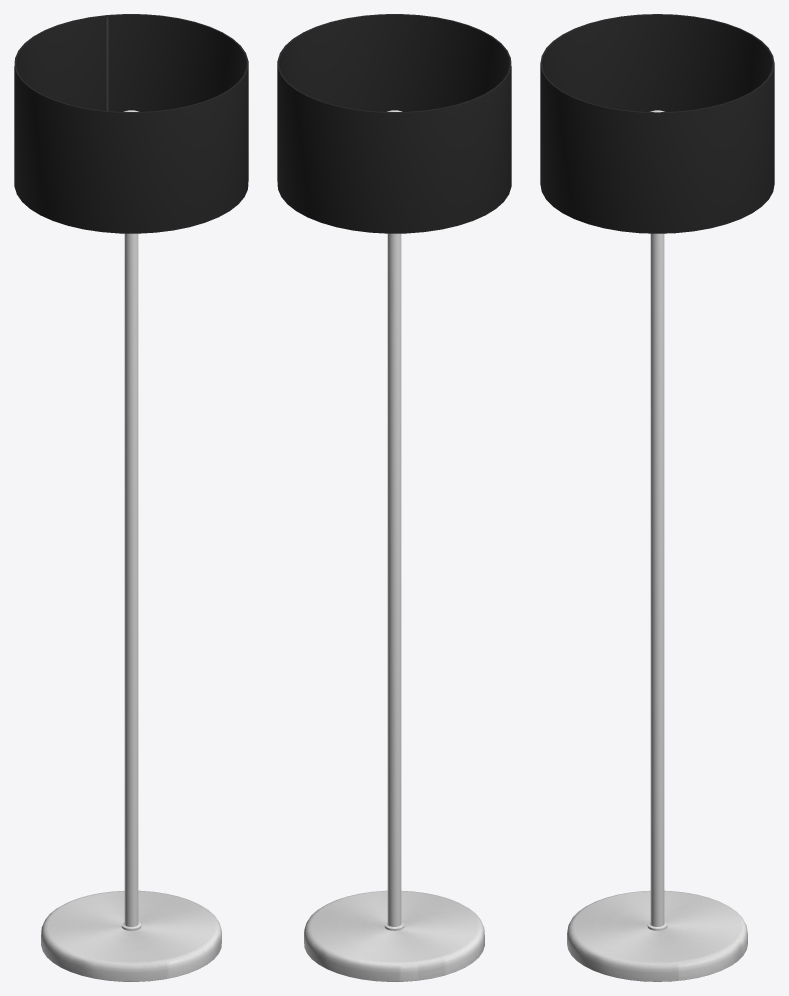
Rendered from B07K4YTVKW.glb.
The picture shows the model from 3 angles, left to right: view 1: azimuth 30°, elevation 25°; view 2: azimuth 150°, elevation 25°; view 3: azimuth 270°, elevation 25°; orthographic projection.
Parts seen in each view (by area): view 1: B07K4YXTZH; view 2: B07K4YXTZH; view 3: B07K4YXTZH.
Part boxes in pixels (x1,y1,x2,y2): B07K4YXTZH: [14, 14, 248, 981]; B07K4YXTZH: [277, 14, 511, 981]; B07K4YXTZH: [540, 14, 774, 981].
Size of the model in its own units: 0.348 by 1.44 by 0.348.
1 material, 1 textured.
